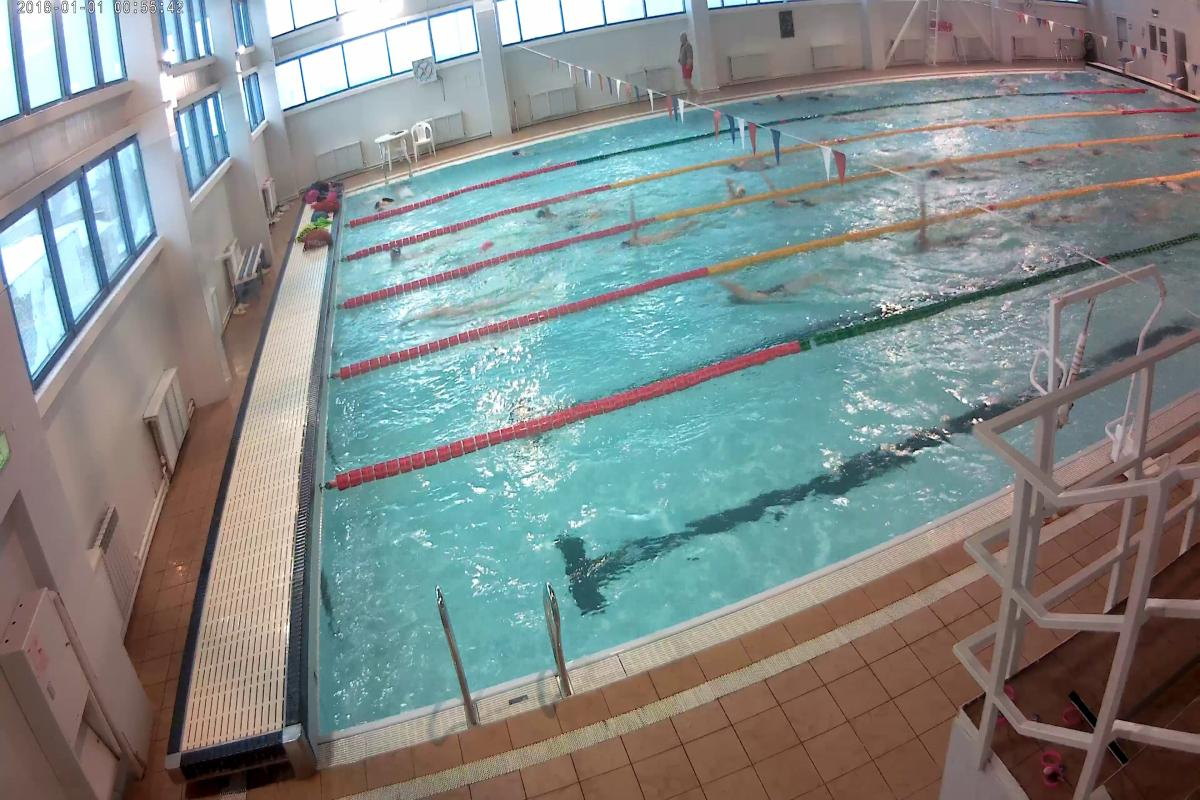swimmer: (720, 269, 833, 310), (399, 299, 531, 325), (610, 223, 700, 250), (1028, 141, 1090, 176), (1028, 200, 1104, 228), (925, 220, 984, 254), (929, 161, 985, 185), (724, 172, 757, 210), (774, 190, 810, 222), (1158, 176, 1200, 201), (538, 205, 582, 228), (378, 248, 426, 268)
